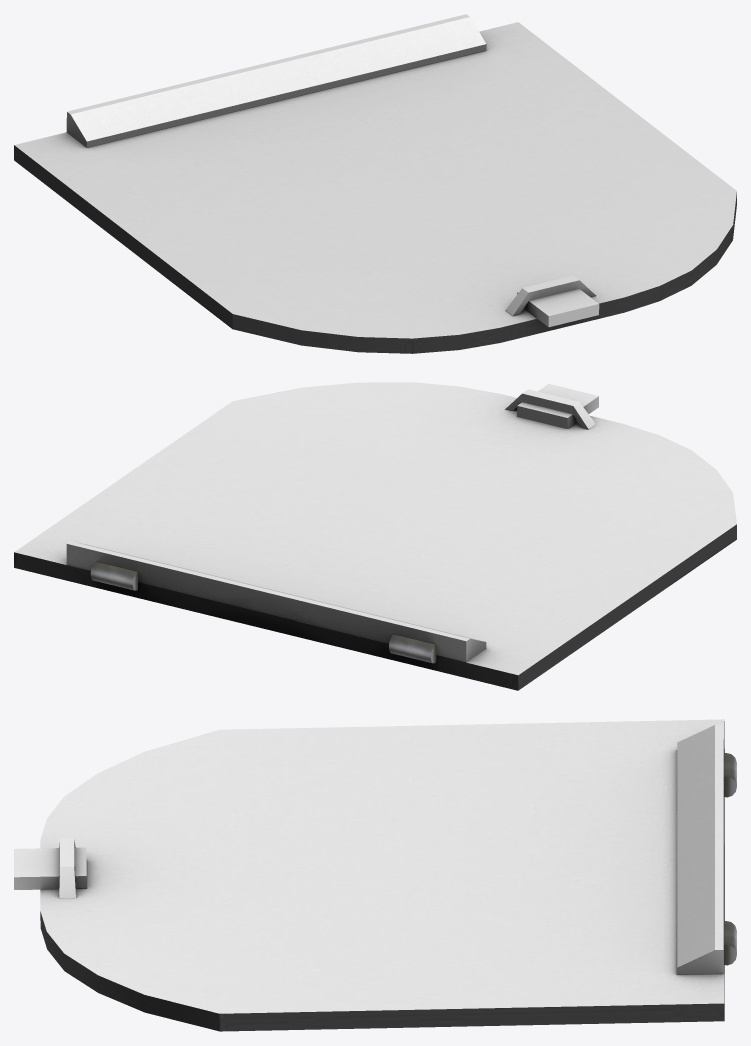
The model's file is hubble-aperture-door.glb.
The picture shows the model from 3 angles, top to bottom: view 1: azimuth 30°, elevation 25°; view 2: azimuth 150°, elevation 25°; view 3: azimuth 270°, elevation 25°; orthographic projection. The views are drawn at different scales.
Parts seen in each view (by area): view 1: aperture-door; view 2: aperture-door; view 3: aperture-door.
Part boxes in pixels (bbox=[...]): aperture-door: bbox=[14, 14, 736, 353]; aperture-door: bbox=[14, 382, 736, 690]; aperture-door: bbox=[14, 719, 736, 1031].
Bounding box in the file's own units: 3.03 × 0.2779 × 3.26.
1 material, 1 textured.
